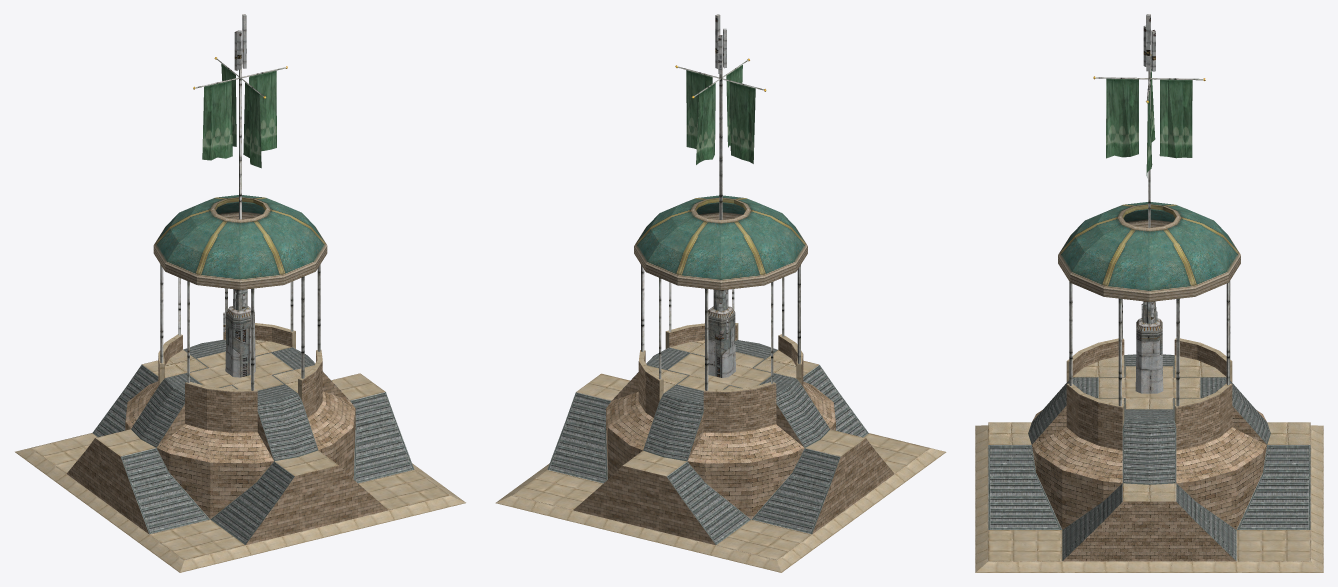
File: ply_nboo_bank_s01_l1.fbx
3 renders of one model, left to right at view 1: azimuth 30°, elevation 25°; view 2: azimuth 150°, elevation 25°; view 3: azimuth 270°, elevation 25°, orthographic. The views are drawn at different scales.
Parts seen in each view (by area): view 1: mesh_node; view 2: mesh_node; view 3: mesh_node.
Part boxes in pixels (x1=…): mesh_node: x1=15, y1=14, x2=465, y2=572; mesh_node: x1=495, y1=14, x2=946, y2=572; mesh_node: x1=975, y1=14, x2=1323, y2=572.
Bounding box in the file's own units: 16 × 24.64 × 16.
